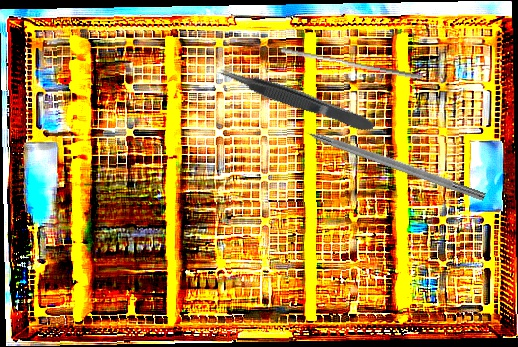Hook Surgical: (283, 118, 487, 202)
Pusher: (279, 46, 424, 81)
Tissue Forceps: (215, 61, 376, 138)
